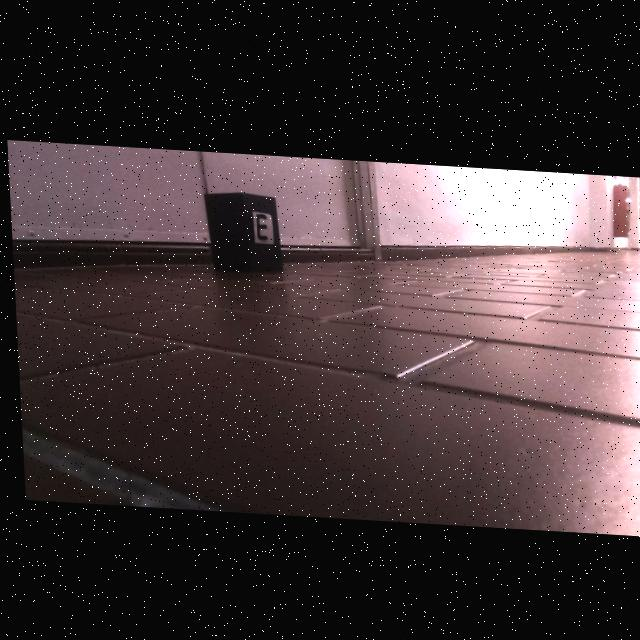E: (254, 211, 266, 238)
